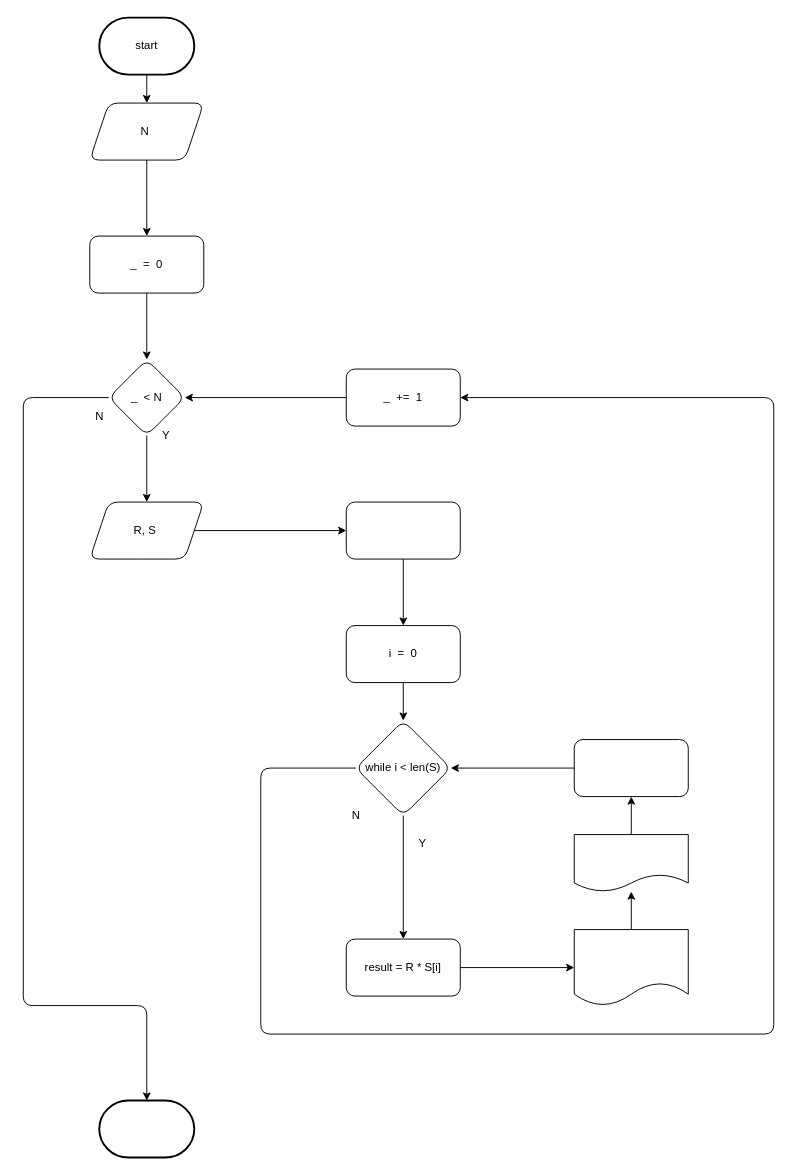
Some shapes in this 798 by 1174 pixel diagram are drawn without their labels. Each missing label, with the box of its shape:
finish: (98, 1099, 195, 1158)
i += 1: (573, 739, 688, 797)
int(R): (345, 501, 460, 559)
result, end='': (573, 929, 688, 1006)
